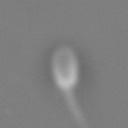normal: (52, 88, 94, 128)
